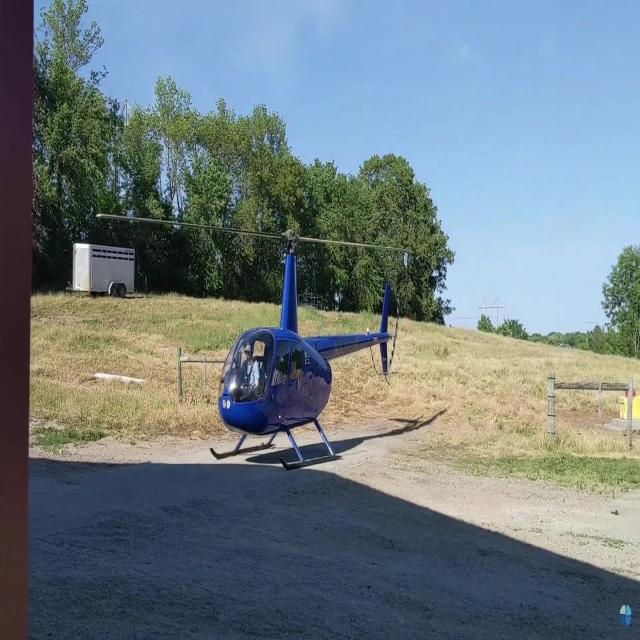CIV_HELO: (210, 229, 392, 472)
